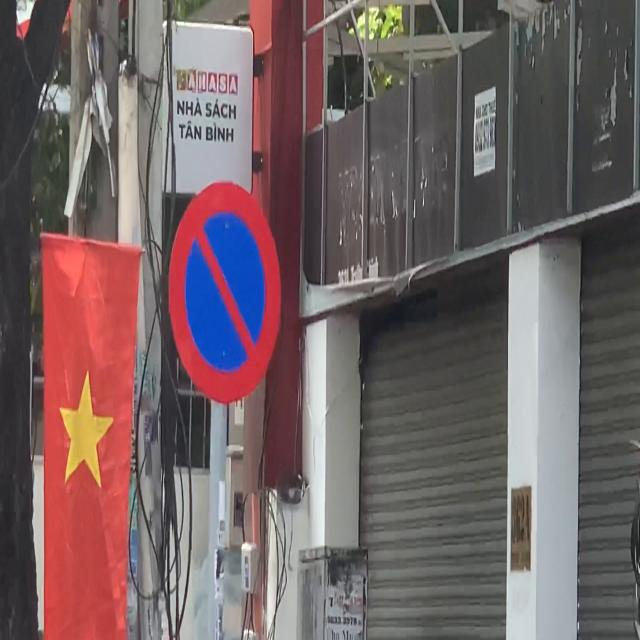Cam do: (168, 181, 282, 406)
